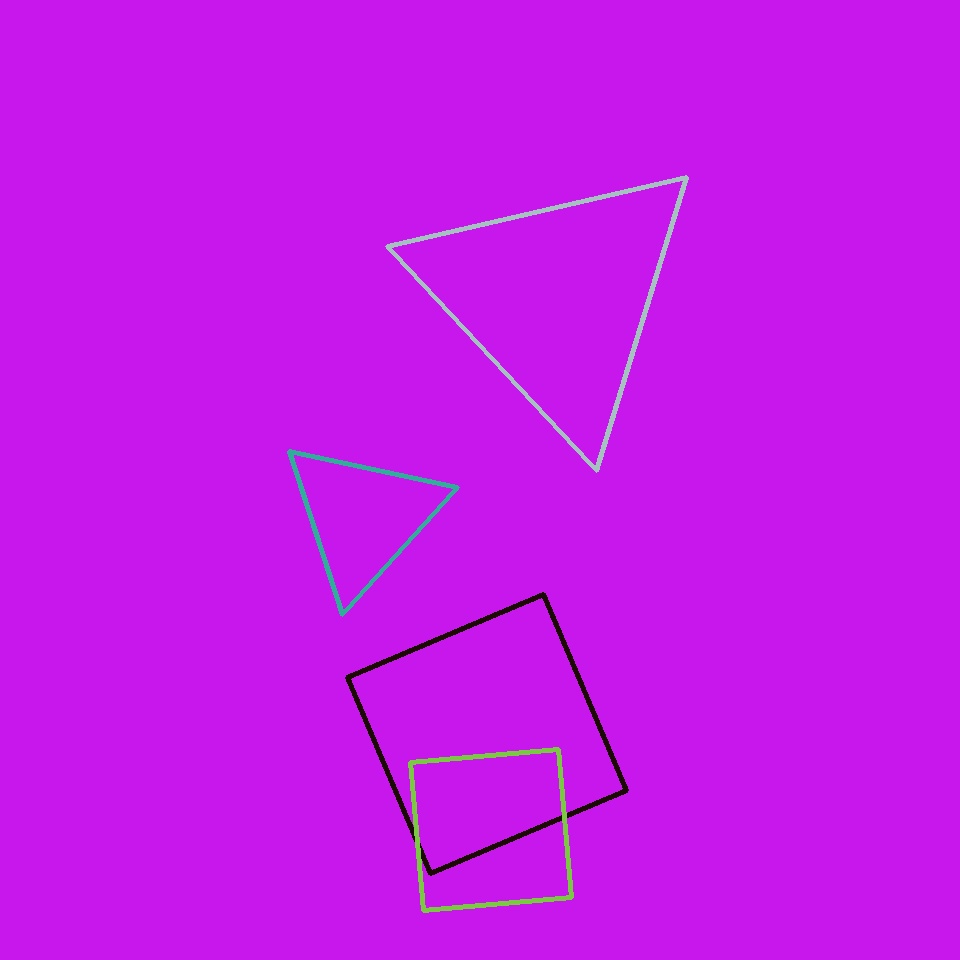circle: (407, 152, 706, 444), (279, 436, 447, 600)
square: (348, 594, 626, 874), (410, 750, 572, 910)
